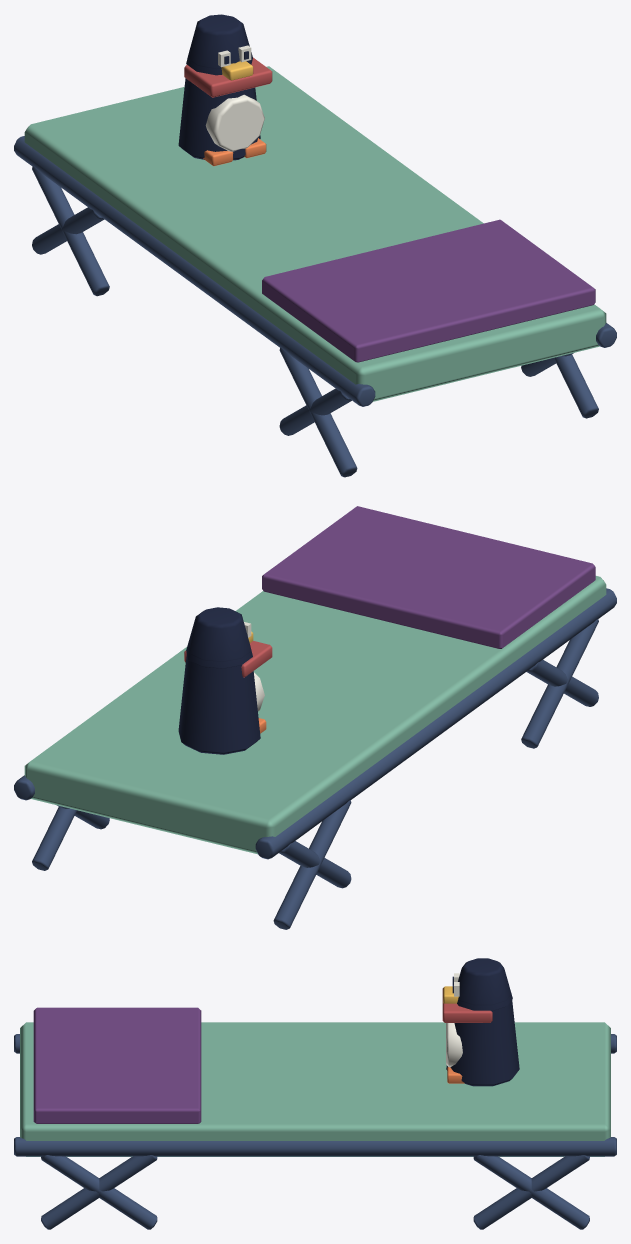
The model's file is camp_cot.glb.
3 renders of one model, top to bottom at view 1: azimuth 30°, elevation 25°; view 2: azimuth 150°, elevation 25°; view 3: azimuth 270°, elevation 25°, orthographic. The views are drawn at different scales.
Parts seen in each view (by area): view 1: camp_cot; view 2: camp_cot; view 3: camp_cot.
Boxes of the visible parts, x1,y1,x2,y2 form: camp_cot: (14, 14, 616, 477); camp_cot: (14, 506, 616, 929); camp_cot: (14, 958, 616, 1229).
Size of the model in its own units: 0.8634 by 0.7675 by 1.98.
